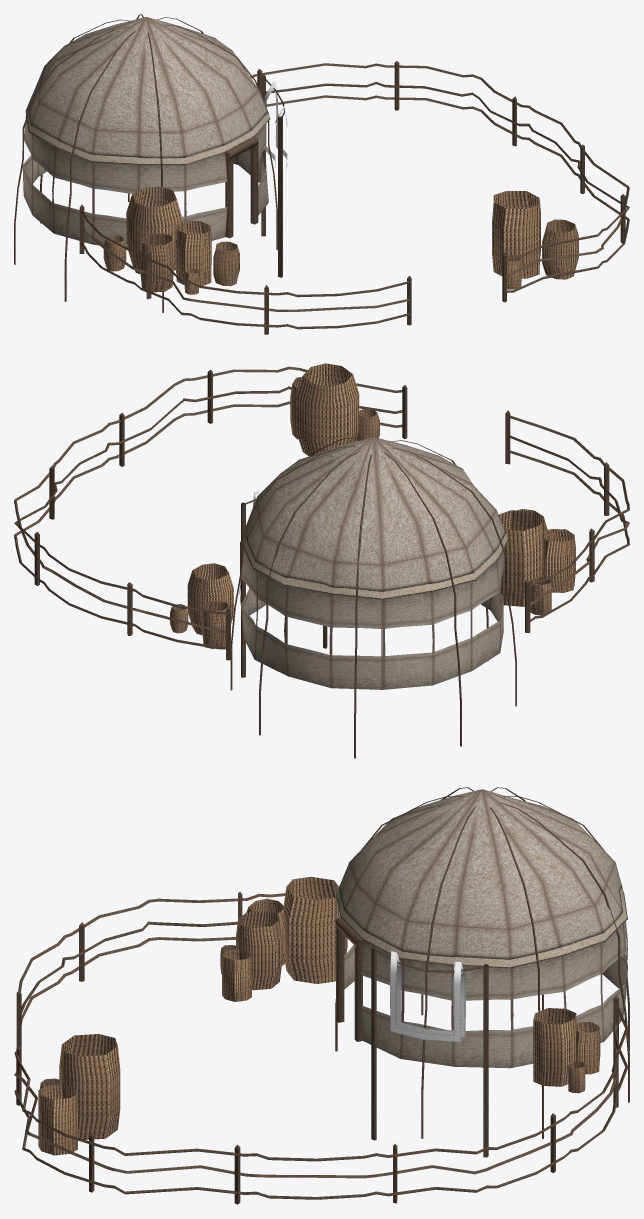
Rendered from step_forge_01.dae.
The picture shows the model from 3 angles, top to bottom: view 1: azimuth 30°, elevation 25°; view 2: azimuth 150°, elevation 25°; view 3: azimuth 270°, elevation 25°; orthographic projection. The views are drawn at different scales.
Parts seen in each view (by area): view 1: Carpet; view 2: Carpet; view 3: Carpet.
Boxes of the visible parts, x1,y1,x2,y2 form: Carpet: (14,14,629,334); Carpet: (14,363,629,758); Carpet: (14,787,629,1204).
Bounding box in the file's own units: 20.16 × 19.5 × 10.4.
